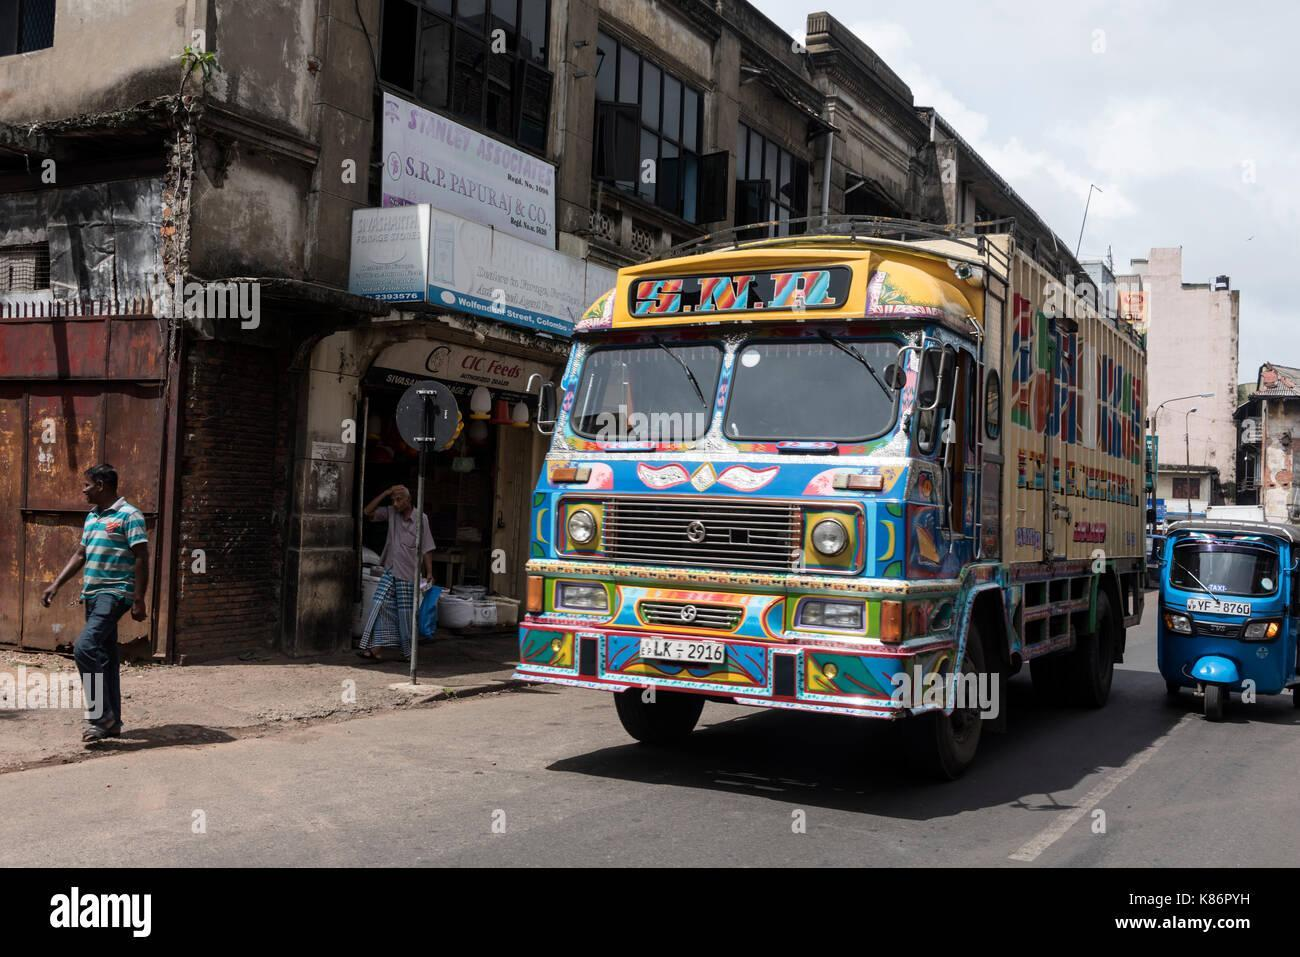truck: (505, 214, 1147, 782)
